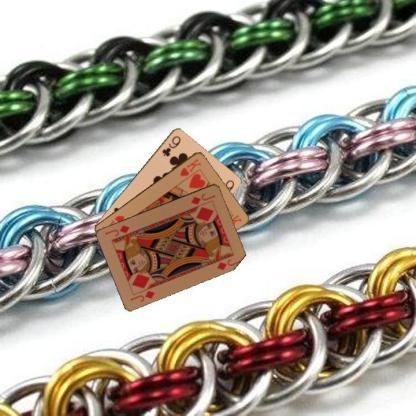9c: (159, 133, 182, 158)
Jd: (188, 190, 217, 206), (128, 288, 156, 302)
Kh: (177, 156, 203, 178)
